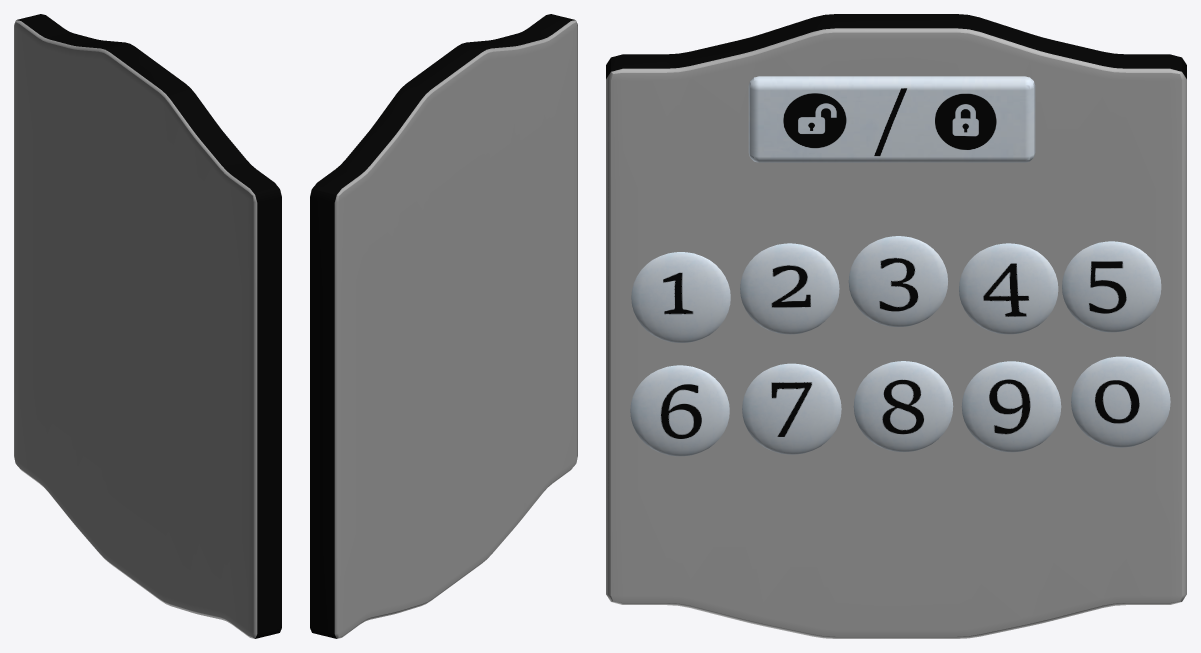
File: NewLock.fbx
3 views of the same model, side by side, from view 1: azimuth 30°, elevation 25°; view 2: azimuth 150°, elevation 25°; view 3: azimuth 270°, elevation 25° (orthographic). The views are drawn at different scales.
Visible parts, largest first — view 1: pCube2; view 2: pCube2; view 3: pCube2, pCube3, pSphere5, pSphere9, pSphere2, pSphere4, pSphere6, pSphere7, pSphere1, pSphere10, pSphere3, pSphere8.
Part boxes in pixels (x1=…): pCube2: x1=14, y1=14, x2=281, y2=638; pCube2: x1=310, y1=14, x2=577, y2=638; pCube2: x1=606, y1=14, x2=1186, y2=638; pCube3: x1=748, y1=76, x2=1035, y2=162; pSphere5: x1=1062, y1=241, x2=1161, y2=332; pSphere9: x1=961, y1=361, x2=1061, y2=452; pSphere2: x1=740, y1=243, x2=839, y2=334; pSphere4: x1=959, y1=243, x2=1058, y2=334; pSphere6: x1=630, y1=365, x2=729, y2=456; pSphere7: x1=742, y1=363, x2=841, y2=454; pSphere1: x1=631, y1=252, x2=730, y2=342; pSphere10: x1=1071, y1=356, x2=1170, y2=447; pSphere3: x1=848, y1=236, x2=947, y2=327; pSphere8: x1=853, y1=361, x2=953, y2=452.
Size of the model in its own units: 0.3195 by 4.07 by 3.51.
Materials: 14 (11 with a texture image).
